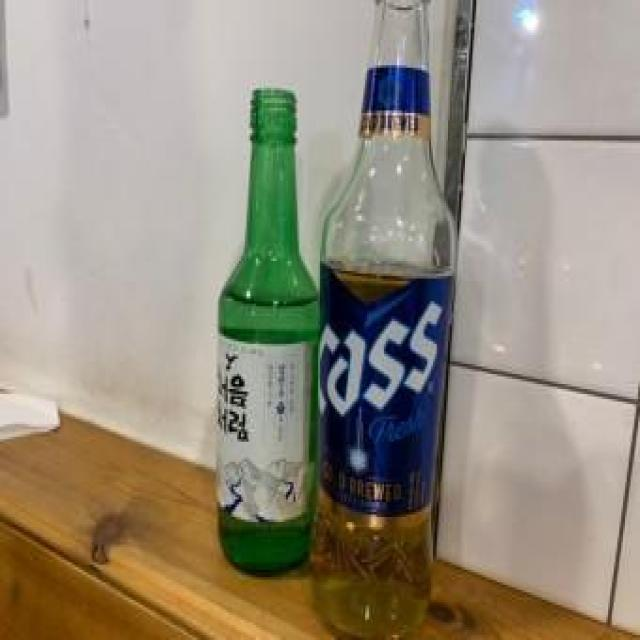beer-bottle: (308, 0, 463, 640)
soju-bottle: (207, 80, 322, 580)
